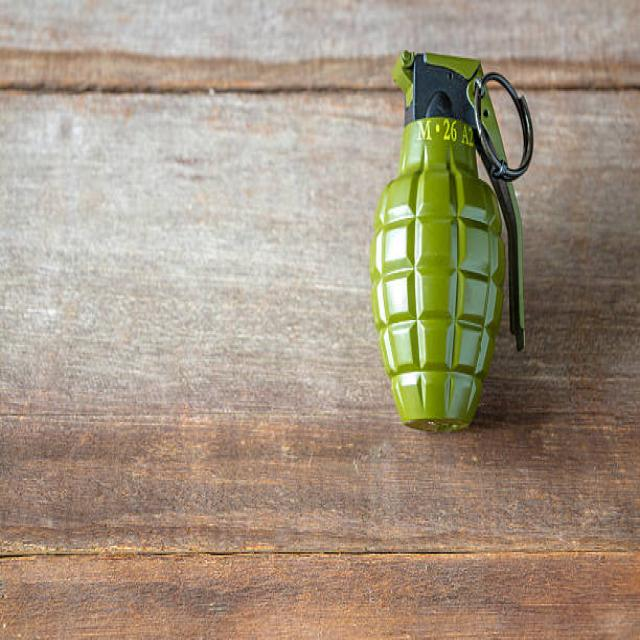grenade: (370, 42, 541, 443)
